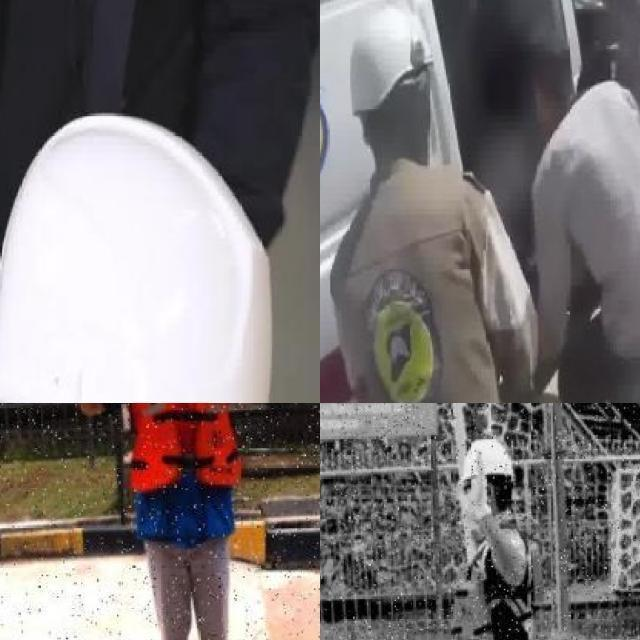apron: (468, 448, 494, 522)
